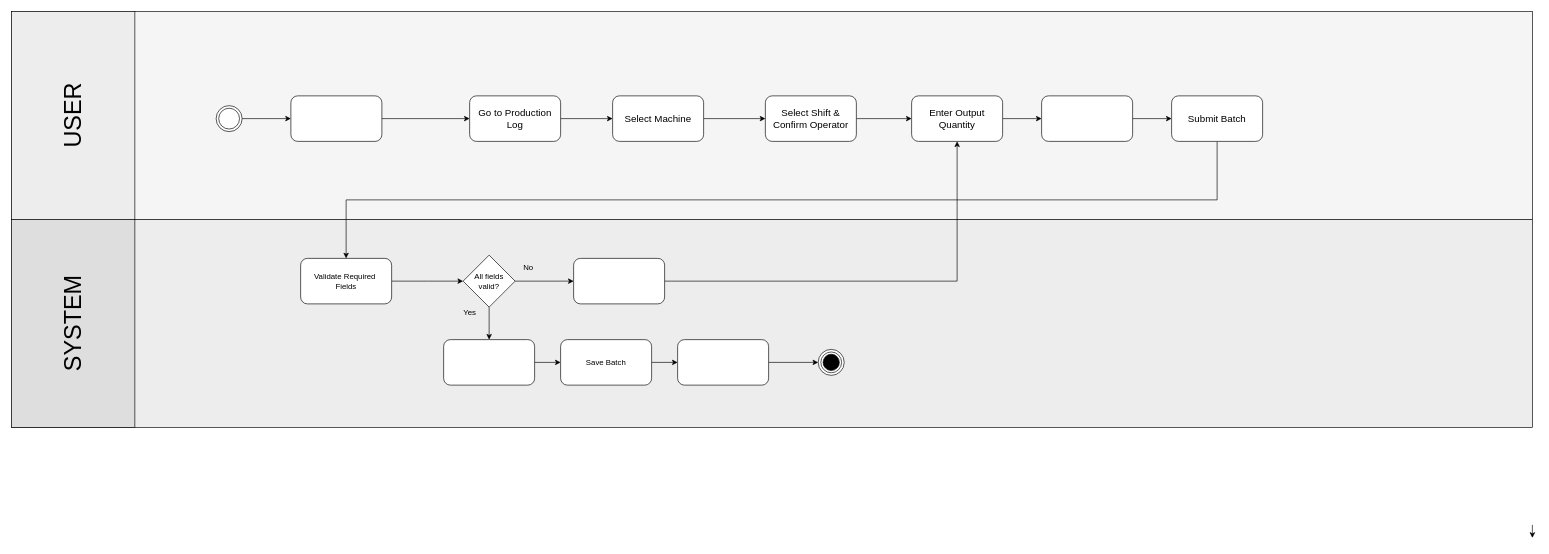
Some shapes in this 1549 by 554 pixel diagram are drawn without their labels. The centre of each missing label's shape, as x and y in pixels:
Generate Batch ID & Timestamp: [489,362]
Login to SPF: [336,118]
Set Batch Status: [1087,118]
Show Confirmation: [723,362]
Show error & highlight fields: [619,281]
